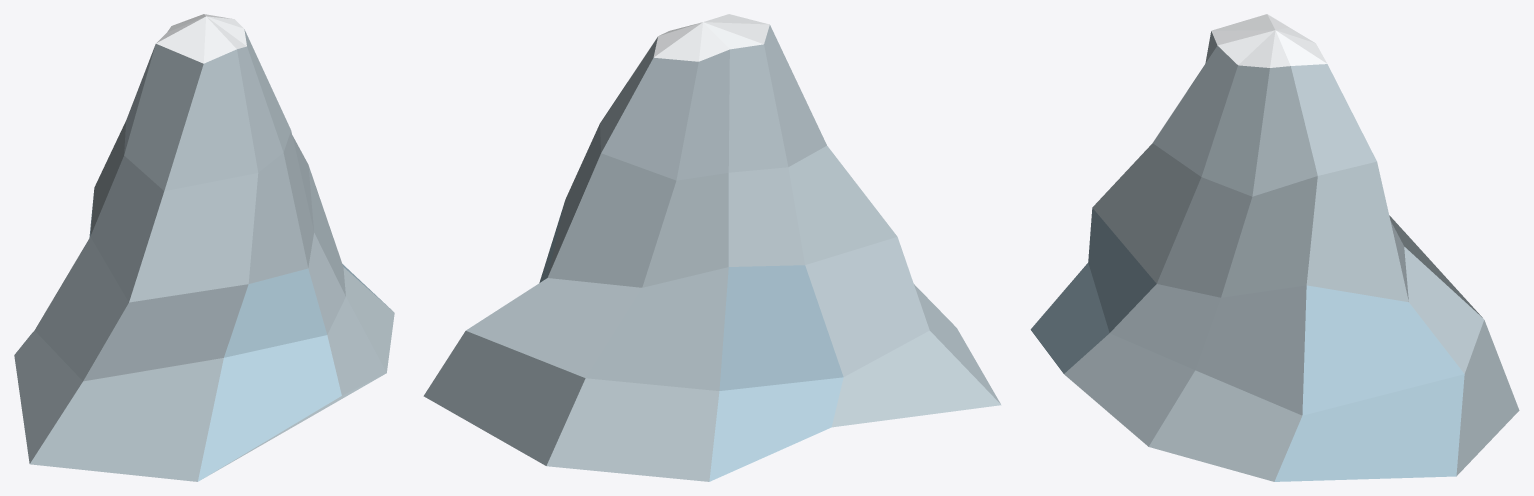
File: Iceberg.fbx
3 views of the same model, side by side, from view 1: azimuth 30°, elevation 25°; view 2: azimuth 150°, elevation 25°; view 3: azimuth 270°, elevation 25° (orthographic). The views are drawn at different scales.
Visible parts, largest first — view 1: Iceberg; view 2: Iceberg; view 3: Iceberg.
Part boxes in pixels (box(x1,y1,x2,y2)): Iceberg: box(14, 14, 394, 481); Iceberg: box(423, 14, 1001, 481); Iceberg: box(1030, 14, 1519, 481).
Size of the model in its own units: 5.41 by 4.41 by 5.25.
